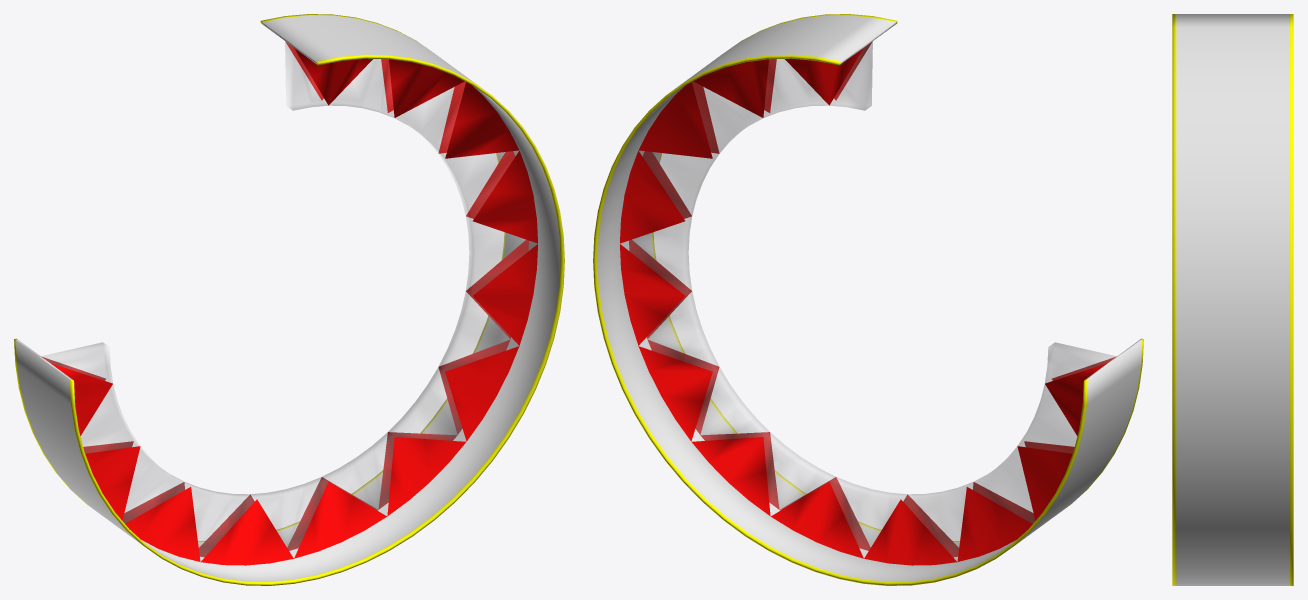
File: FlickNote11.fbx
The picture shows the model from 3 angles, left to right: view 1: azimuth 30°, elevation 25°; view 2: azimuth 150°, elevation 25°; view 3: azimuth 270°, elevation 25°; orthographic projection. The views are drawn at different scales.
Visible parts, largest first — view 1: FlickNote11; view 2: FlickNote11; view 3: FlickNote11.
Boxes of the visible parts, bbox=[...] form: FlickNote11: bbox=[14, 14, 564, 585]; FlickNote11: bbox=[593, 14, 1143, 585]; FlickNote11: bbox=[1172, 14, 1293, 585].
Bounding box in the file's own units: 198 × 40 × 198.
